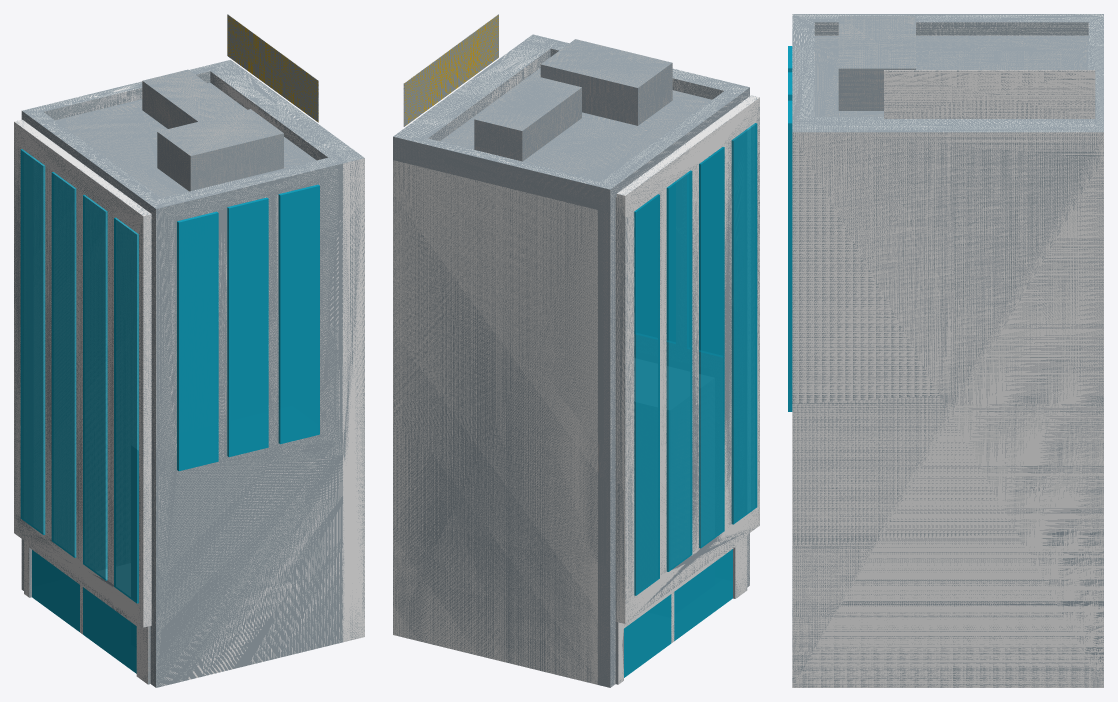
The model's file is Building1.fbx.
The picture shows the model from 3 angles, left to right: view 1: azimuth 30°, elevation 25°; view 2: azimuth 150°, elevation 25°; view 3: azimuth 270°, elevation 25°; orthographic projection. The views are drawn at different scales.
Visible parts, largest first — view 1: Group1; view 2: Group1; view 3: Group1.
Part boxes in pixels (box(x1,y1,x2,y2)): Group1: box(14, 14, 364, 687); Group1: box(393, 14, 759, 687); Group1: box(788, 14, 1103, 687).
Bounding box in the file's own units: 2907 × 6624 × 3089.
